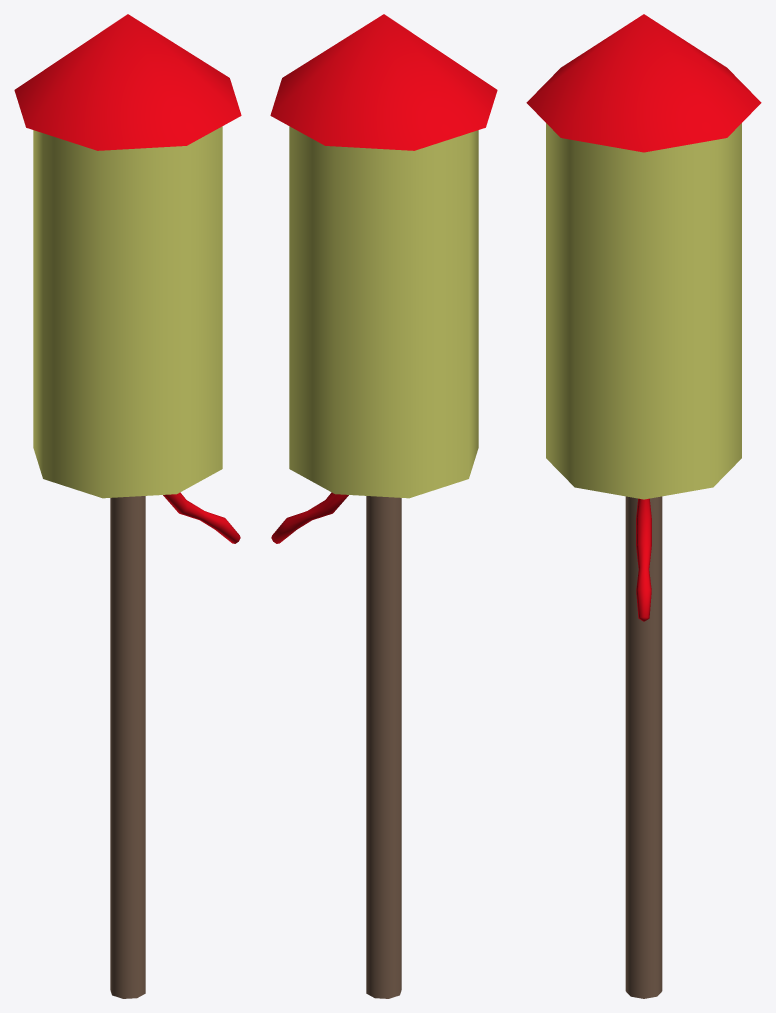
File: firework.fbx
3 views of the same model, side by side, from view 1: azimuth 30°, elevation 25°; view 2: azimuth 150°, elevation 25°; view 3: azimuth 270°, elevation 25° (orthographic).
Visible parts, largest first — view 1: firework; view 2: firework; view 3: firework.
Boxes of the visible parts, x1,y1,x2,y2 form: firework: (14,14,241,998); firework: (270,14,497,998); firework: (526,14,761,998).
Size of the model in its own units: 25.17 by 110 by 24.
